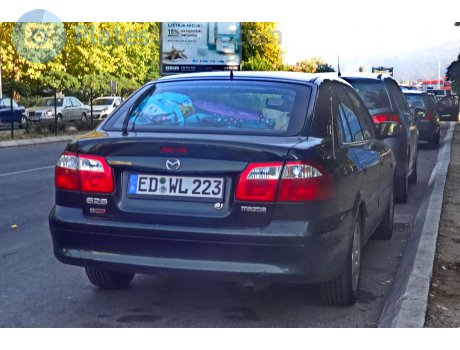License Plates: (133, 171, 219, 193)
